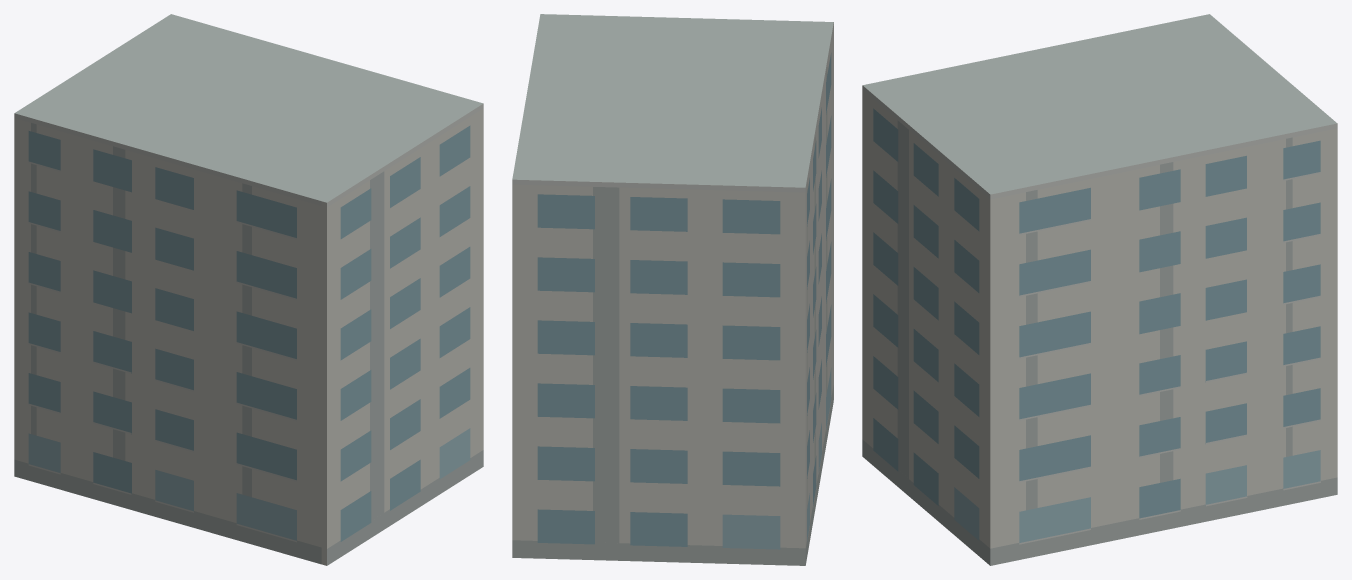
The model's file is survey-upis-32728518.glb.
The picture shows the model from 3 angles, left to right: view 1: azimuth 30°, elevation 25°; view 2: azimuth 150°, elevation 25°; view 3: azimuth 270°, elevation 25°; orthographic projection. The views are drawn at different scales.
Visible parts, largest first — view 1: survey-upis-32728518.tmp; view 2: survey-upis-32728518.tmp; view 3: survey-upis-32728518.tmp.
Boxes of the visible parts, <box> form: survey-upis-32728518.tmp: <box>14,14,483,565</box>; survey-upis-32728518.tmp: <box>512,14,833,565</box>; survey-upis-32728518.tmp: <box>862,14,1337,565</box>.
Size of the model in its own units: 19.51 by 18.7 by 21.69.
